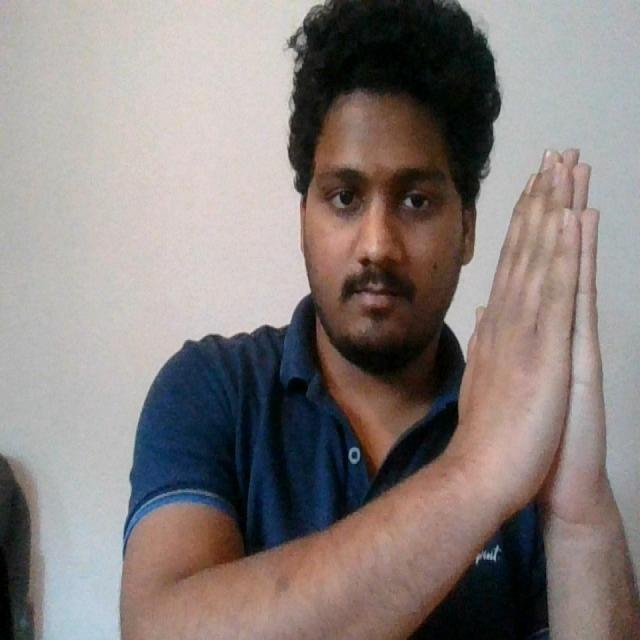Thanks: (439, 140, 635, 531)
